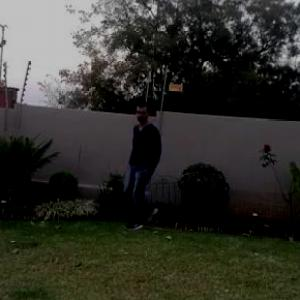follow: (123, 98, 173, 236)
